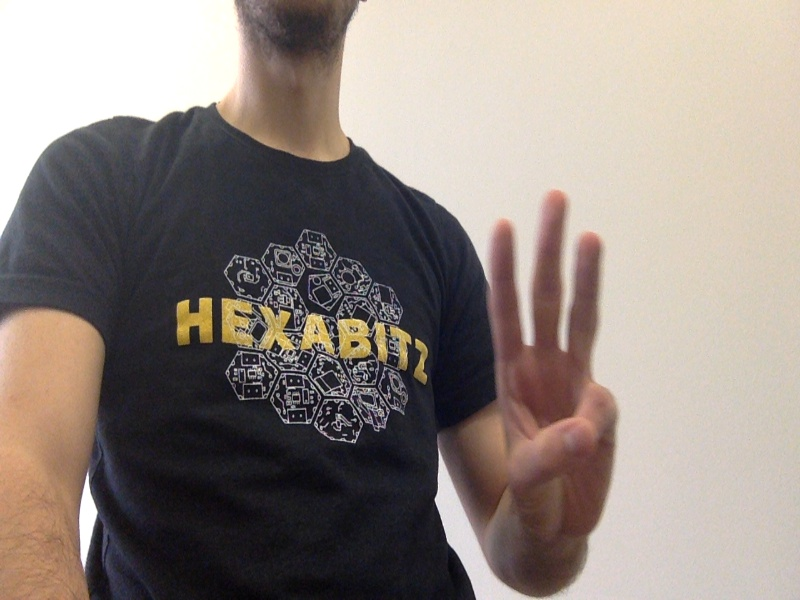3-hand: (490, 192, 618, 538)
